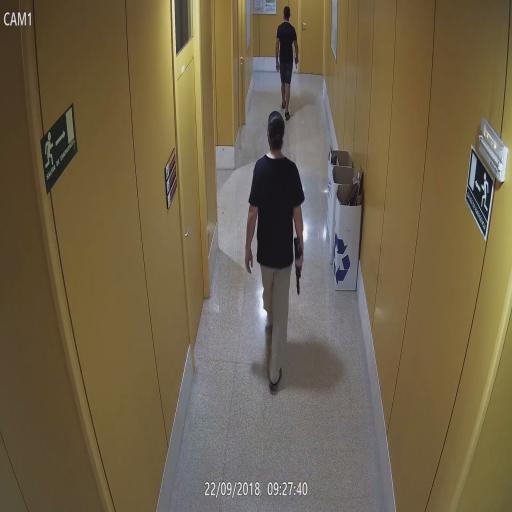Handgun: (294, 55, 300, 70)
